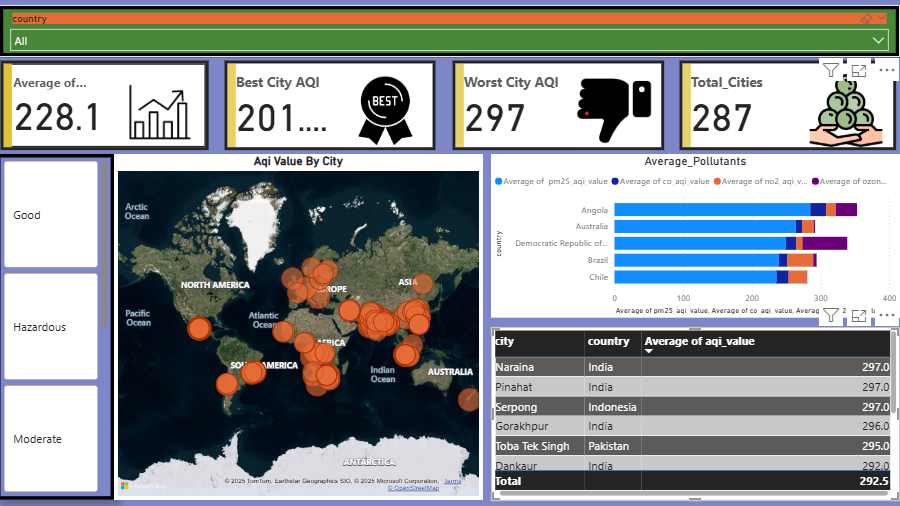

What the dashboard file says about the page in this screenshot:
{"tool":"powerbi","page":{"name":"Page 1","canvas":[1280,720],"ordinal":0},"visuals":[{"type":"cardVisual","fields":{"Data":["Avg(Cleaned_Dataset.aqi_value)"]},"box":[0,84,305.7,137.7],"z":0},{"type":"cardVisual","fields":{"Data":["Cleaned_Dataset.Best City AQI"]},"box":[317.5,84,309.1,137.7],"z":1000},{"type":"cardVisual","fields":{"Data":["Cleaned_Dataset.Worst City AQI"]},"box":[640,84,310.8,137.7],"z":2000},{"type":"cardVisual","fields":{"Data":["Cleaned_Dataset.Total_Cities"]},"box":[962.5,84,317.5,137.7],"z":3000},{"type":"barChart","title":"Average_Pollutants","fields":{"Category":["Cleaned_Dataset.country"],"Y":["Avg(Cleaned_Dataset. pm25_aqi_value)","Avg(Cleaned_Dataset.co_aqi_value)","Avg(Cleaned_Dataset.no2_aqi_value)","Avg(Cleaned_Dataset.ozone_aqi_value)"]},"box":[700.5,221.7,579.5,231.8],"z":4000},{"type":"advancedSlicerVisual","fields":{"Values":["Cleaned_Dataset.aqi_category"]},"box":[0,221.7,166.3,490.5],"z":5000},{"type":"slicer","fields":{"Values":["Cleaned_Dataset.country"]},"box":[3.4,10.1,1276.6,73.9],"z":6000},{"type":"tableEx","fields":{"Values":["Cleaned_Dataset. city","Cleaned_Dataset.country","Avg(Cleaned_Dataset.aqi_value)"]},"box":[700.5,467,579.5,245.2],"z":7000},{"type":"map","title":"Aqi Value By City","fields":{"Category":["Cleaned_Dataset. city"],"Size":["Sum(Cleaned_Dataset.aqi_value)"]},"box":[166.3,221.7,522.4,490.5],"z":8000}]}

Visuals, with their boxes in screenshot pixels (x1, y1, x2, y2), scaled from the page's 1280x720 canvas onto the 900x506 screenshot:
cardVisual - Avg(Cleaned_Dataset.aqi_value): [left=0, top=59, right=215, bottom=156]
cardVisual - Cleaned_Dataset.Best City AQI: [left=223, top=59, right=441, bottom=156]
cardVisual - Cleaned_Dataset.Worst City AQI: [left=450, top=59, right=669, bottom=156]
cardVisual - Cleaned_Dataset.Total_Cities: [left=677, top=59, right=899, bottom=156]
"Average_Pollutants" barChart: [left=493, top=156, right=899, bottom=319]
advancedSlicerVisual - Cleaned_Dataset.aqi_category: [left=0, top=156, right=117, bottom=501]
slicer - Cleaned_Dataset.country: [left=2, top=7, right=899, bottom=59]
tableEx - Cleaned_Dataset. city x Cleaned_Dataset.country: [left=493, top=328, right=899, bottom=501]
"Aqi Value By City" map: [left=117, top=156, right=484, bottom=501]
